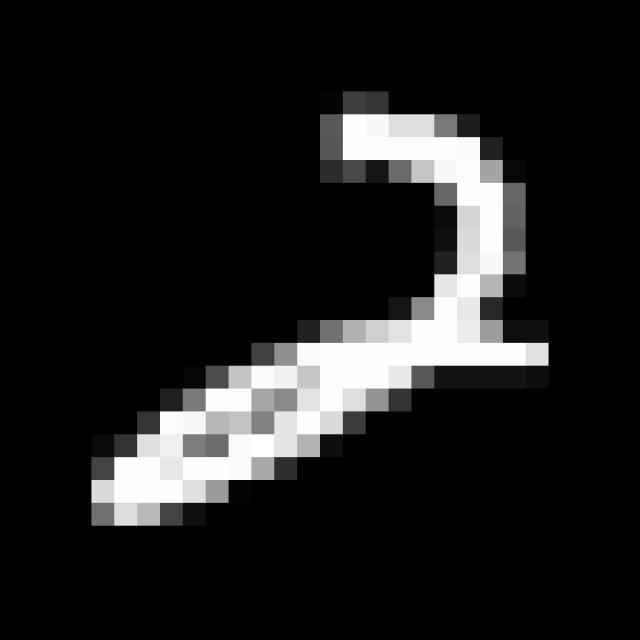two -2-: (71, 87, 564, 540)
